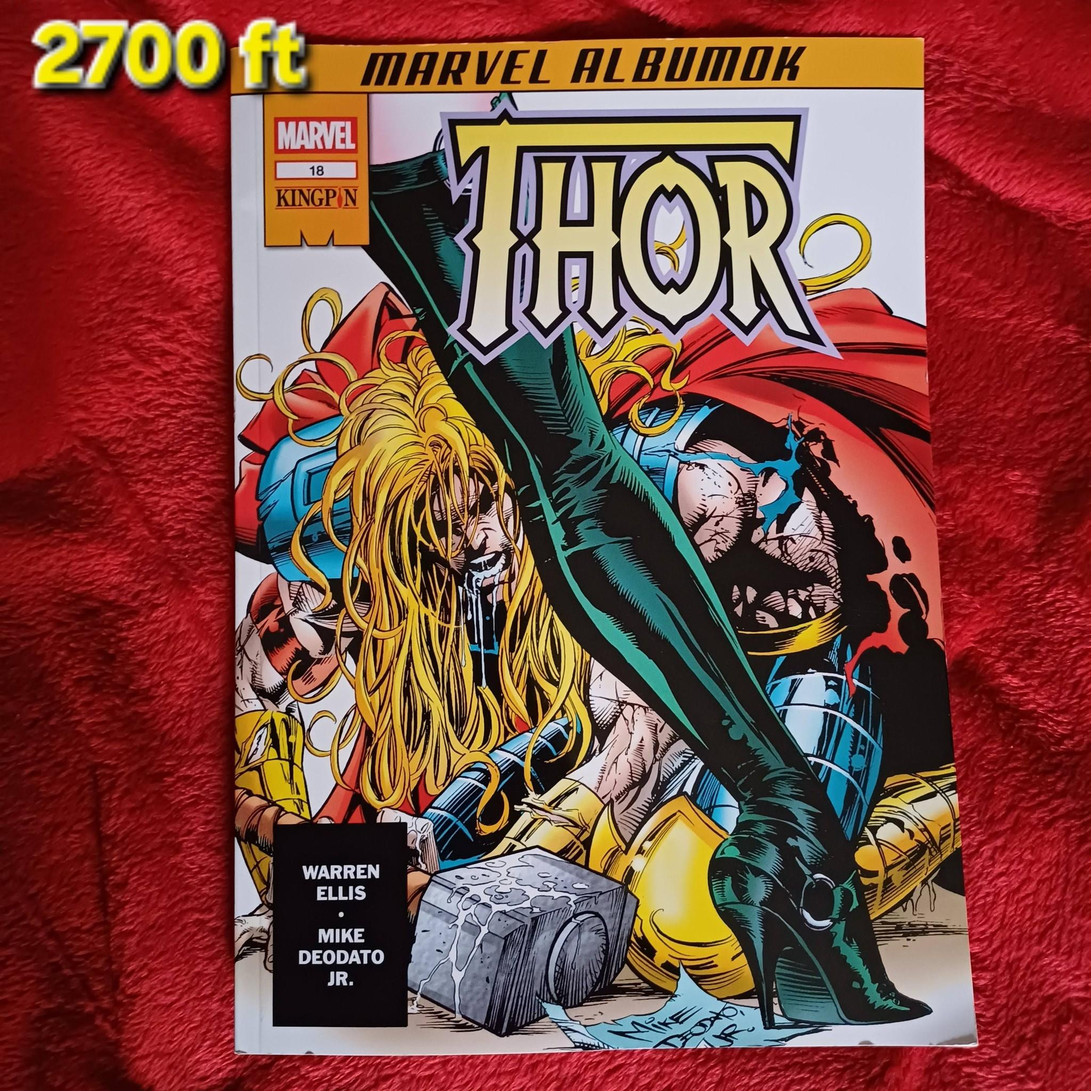comic: (221, 36, 975, 1055)
